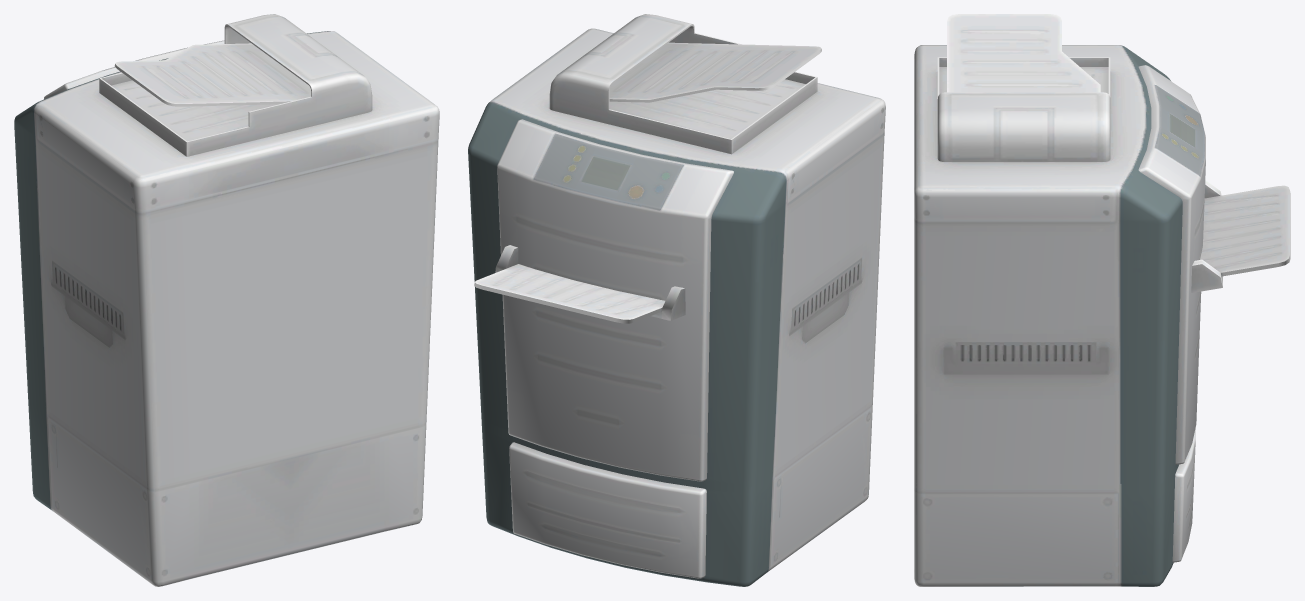
File: OfficePrinter03.fbx
The picture shows the model from 3 angles, left to right: view 1: azimuth 30°, elevation 25°; view 2: azimuth 150°, elevation 25°; view 3: azimuth 270°, elevation 25°; orthographic projection.
Parts seen in each view (by area): view 1: OfficePrinter02 1; view 2: OfficePrinter02 1; view 3: OfficePrinter02 1.
Boxes of the visible parts, left/top/right/bottom form: OfficePrinter02 1: left=14, top=14, right=439, bottom=586; OfficePrinter02 1: left=468, top=14, right=885, bottom=586; OfficePrinter02 1: left=914, top=14, right=1290, bottom=586.
Size of the model in its own units: 0.997 by 1.46 by 1.08.
Materials: 1 (1 with a texture image).
